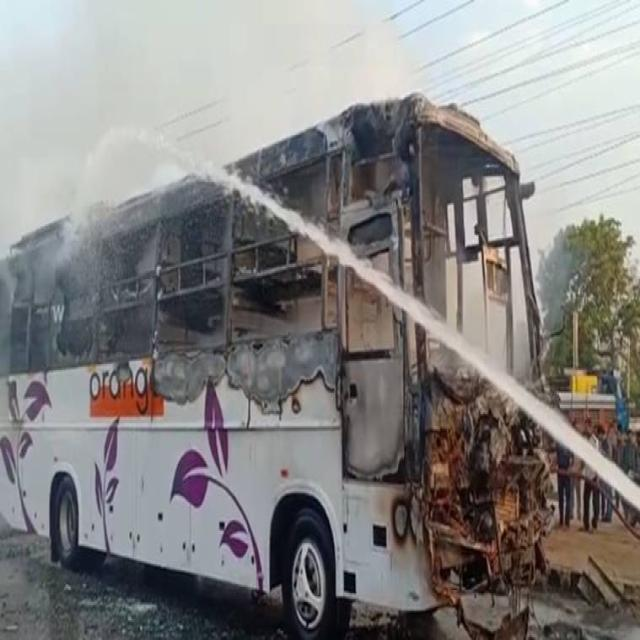accident: (1, 94, 549, 633)
